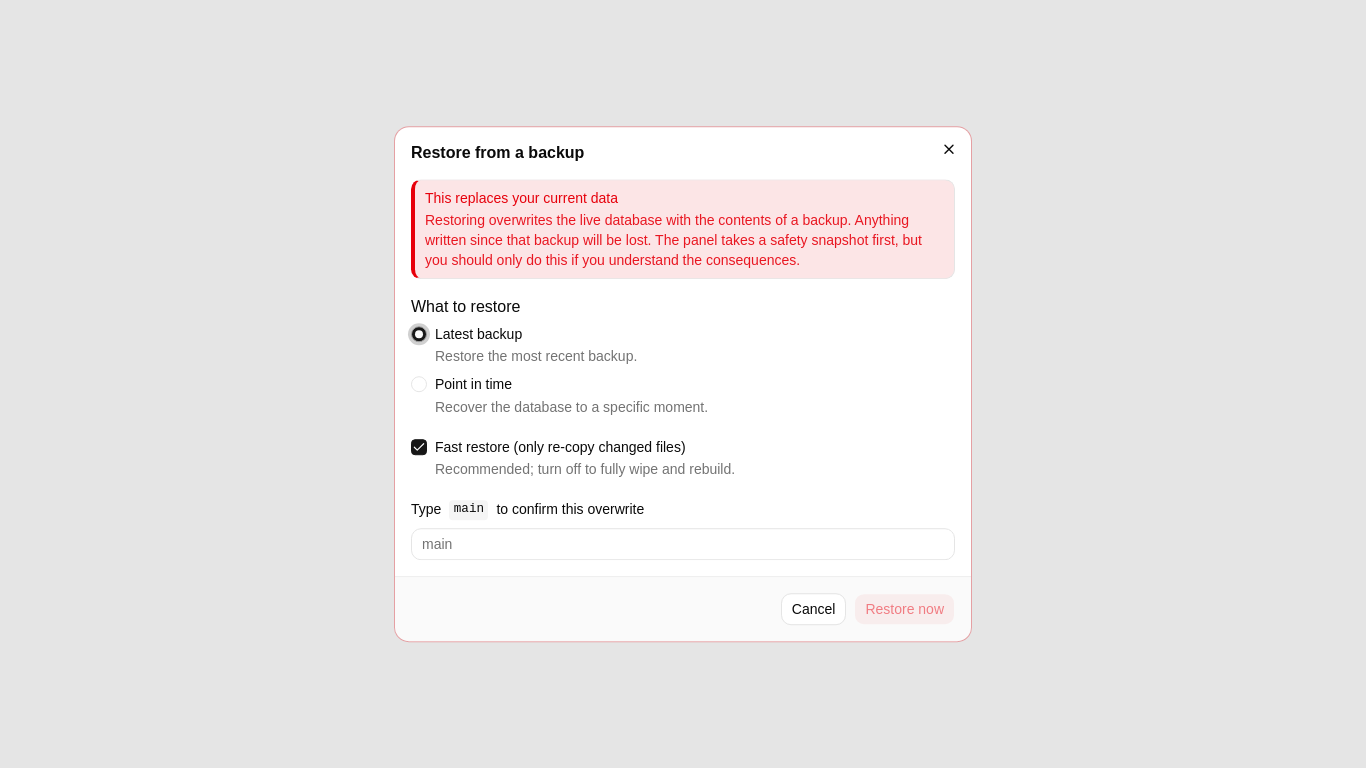
Test: RestoreModal › gates the destructive Restore button until the stanza name is typed exactly
Expected: the button "Restore now" is disabled, [854,593,955,625]
Type "wrong" into the field labelled "Type main to confirm this overwrite" at x=683, y=544, box [411,528,955,560]
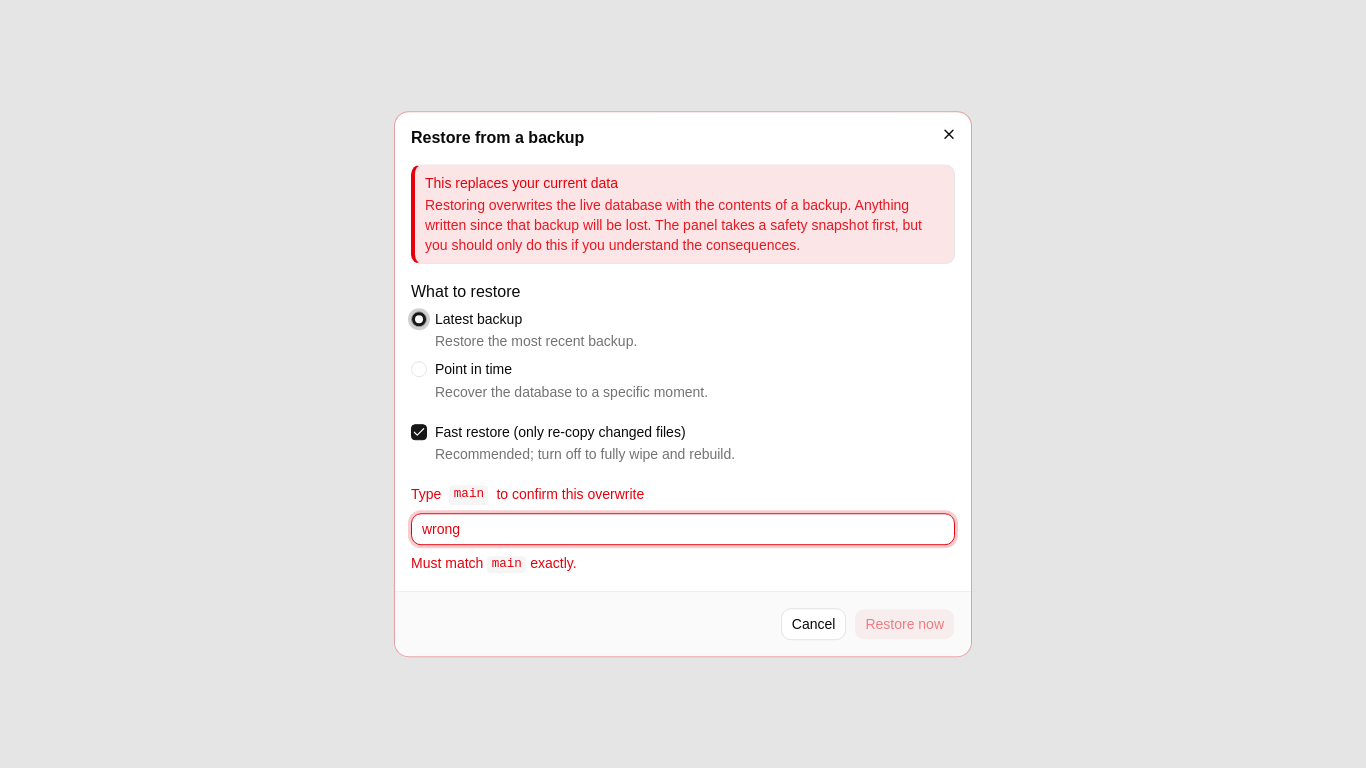
Expected: the button "Restore now" is disabled, [854,608,955,640]
Expected: the text "Must match main exactly." is shown, [411,555,577,573]
Replace the text in the field labelled "Type main to confirm this overwrite" with "main" at x=683, y=529, box [411,513,955,545]
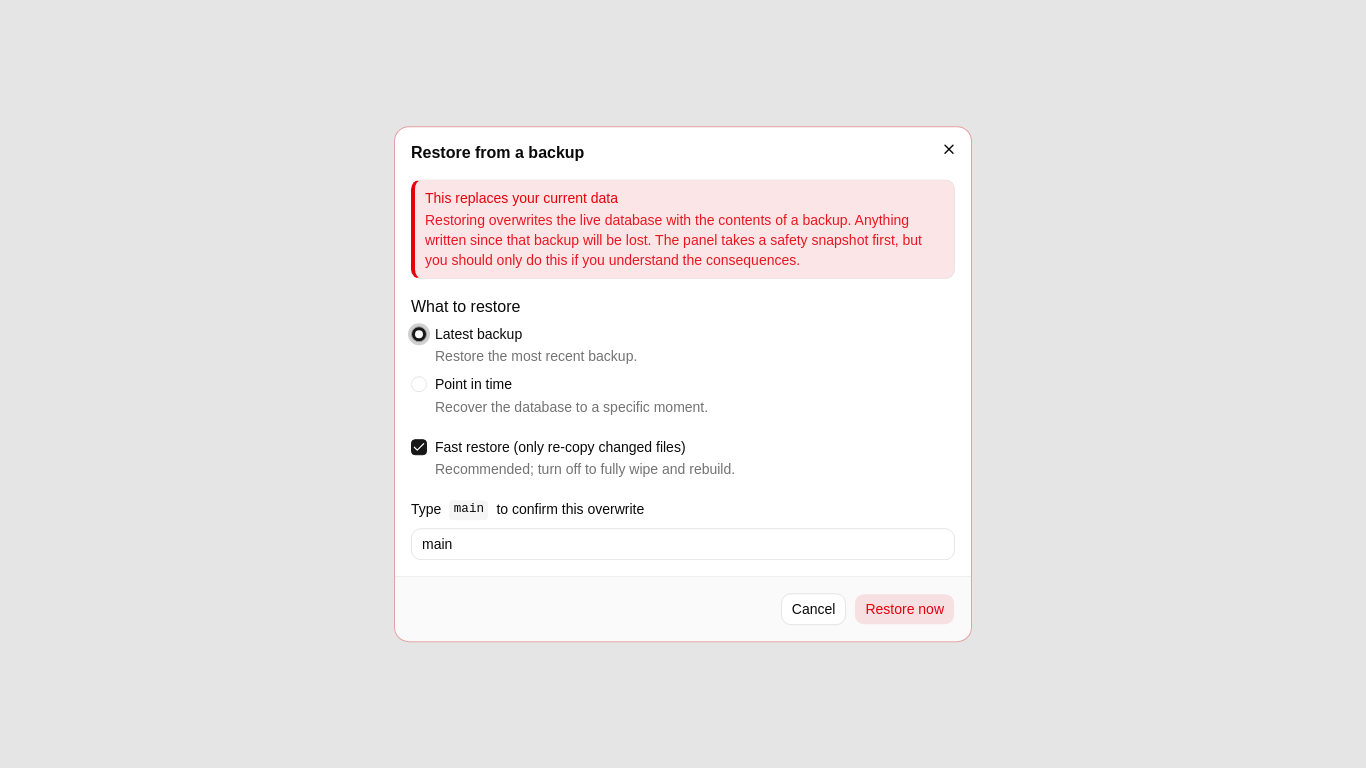
Expected: the button "Restore now" is enabled, [854,593,955,625]
